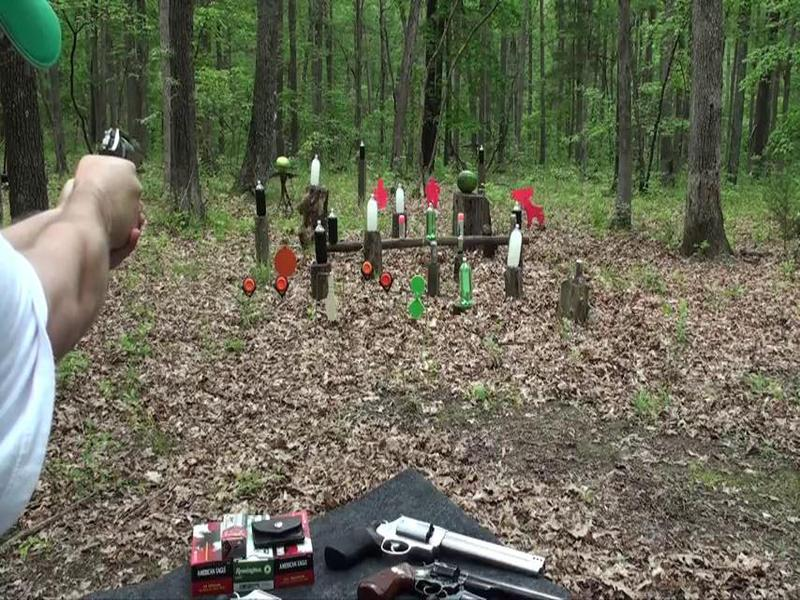Revolver: (84, 121, 154, 170)
